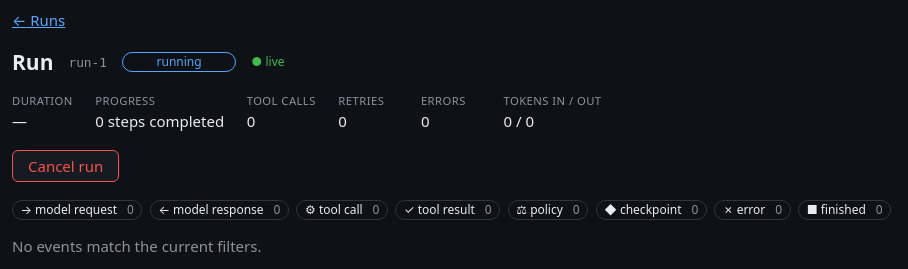
Scenario: RunDetailPage actions › asks before cancelling, then reconciles with the server
The image size is (908, 269).
Click the button "Cancel run" at coordinates (66, 166), box x1=12 y1=150 x2=119 y2=182
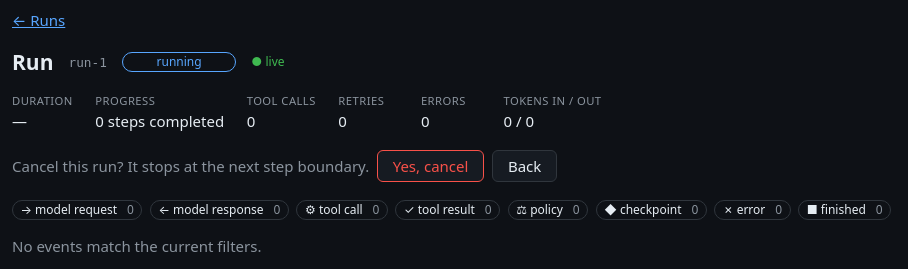
Expected: the text "Cancel this run? It stops at the next step boundary." is shown, x1=12 y1=155 x2=369 y2=177
Click the button "Yes, cancel" at coordinates (431, 166), box x1=377 y1=150 x2=484 y2=182
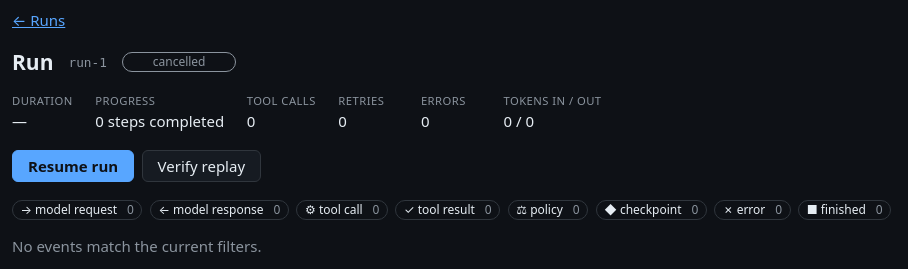
Expected: the button "Cancel run" is not shown
Expected: the button "Resume run" is shown, x1=12 y1=150 x2=134 y2=182
